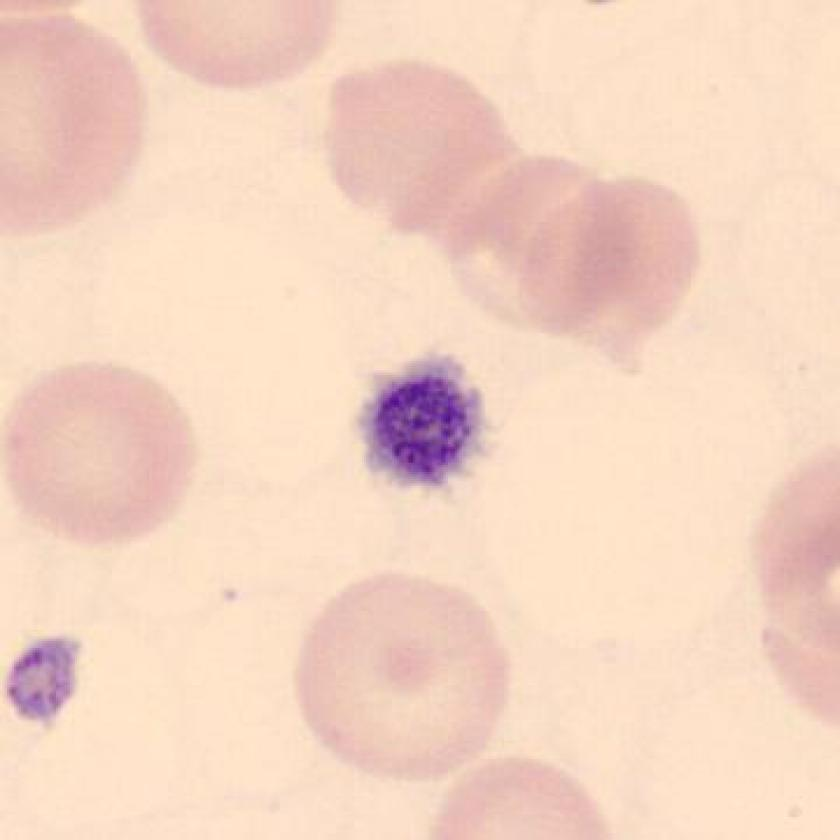platelets: (349, 348, 498, 506), (1, 628, 83, 735)
